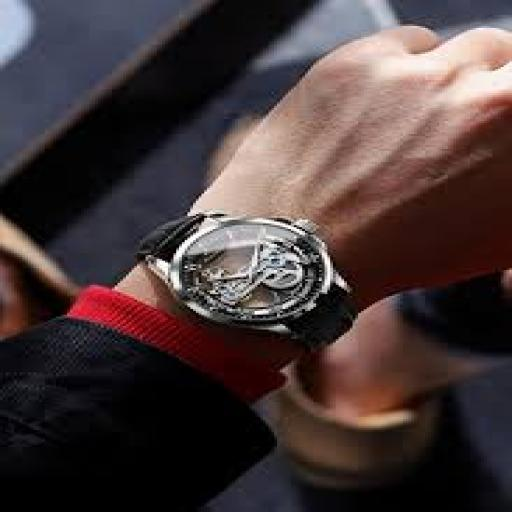KolSaati: (124, 201, 376, 353)
